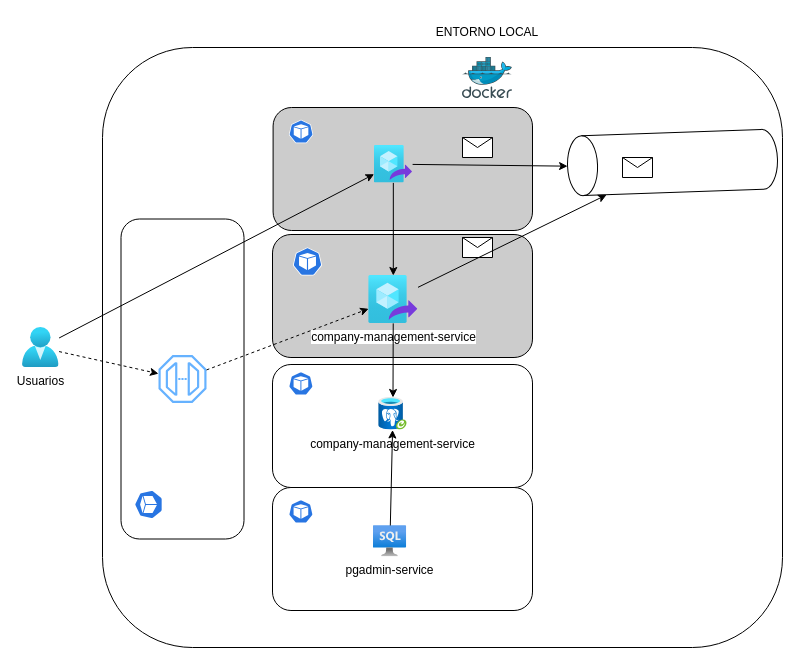
This 800x665 diagram has some shape labels left out. The box of each missing label's shape, as (x1, y1, x2, y2) in pixels:
company-management-ui-service: (374, 145, 412, 182)
RabbitMQ / Redis: (566, 128, 778, 196)
